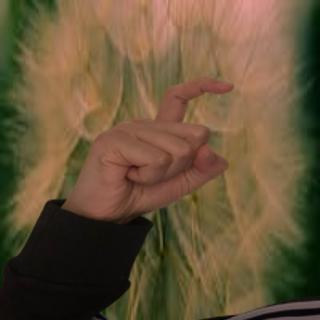WHY: (59, 60, 238, 221)
